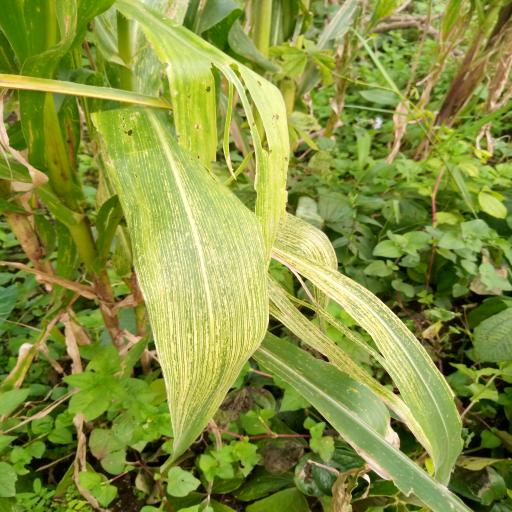Corn_Streak: (83, 104, 268, 444), (257, 219, 475, 505)
